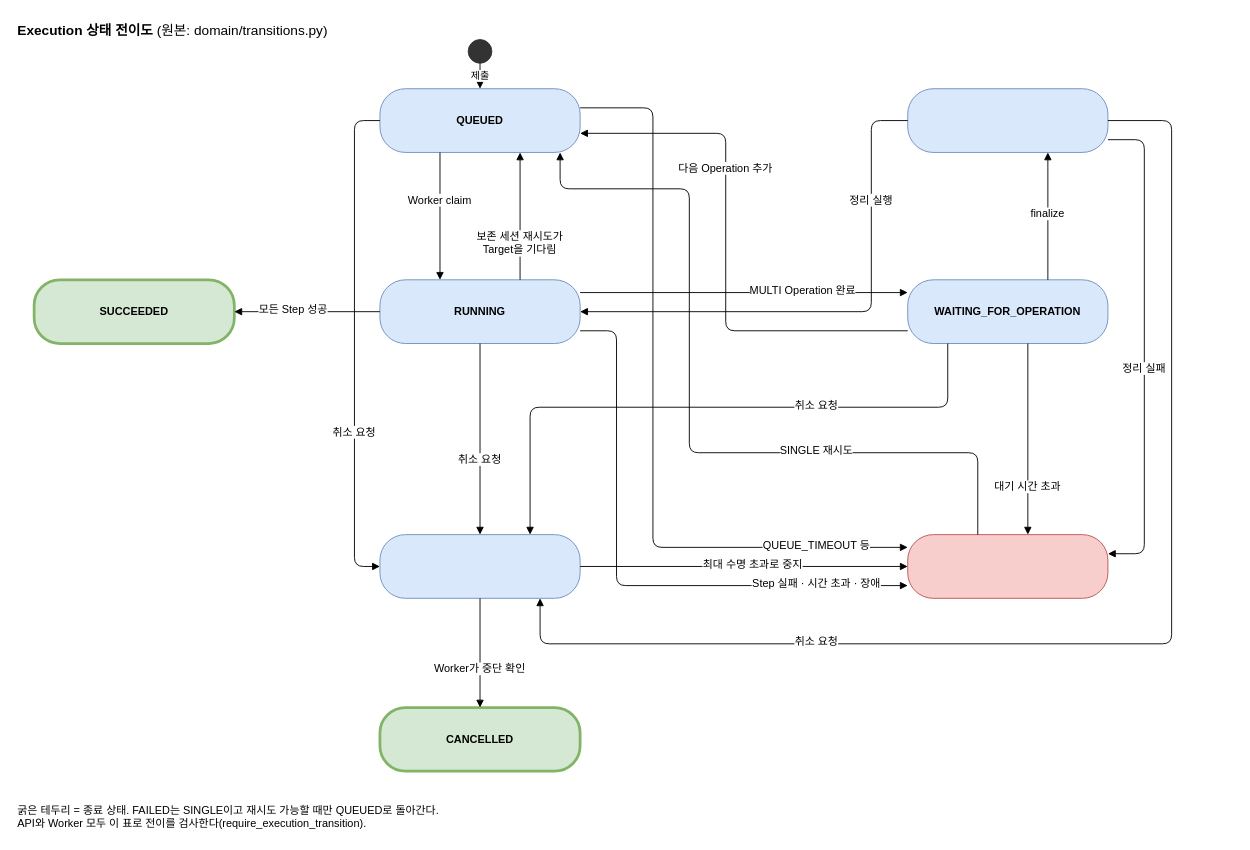
Image size: 1250x850. Some labels were removed from this diagram. The centre of each missing label's shape, as x and y in pixels:
CANCEL_REQUESTED: point 479,566
FAILED: point 1007,566
FINALIZING: point 1007,120
